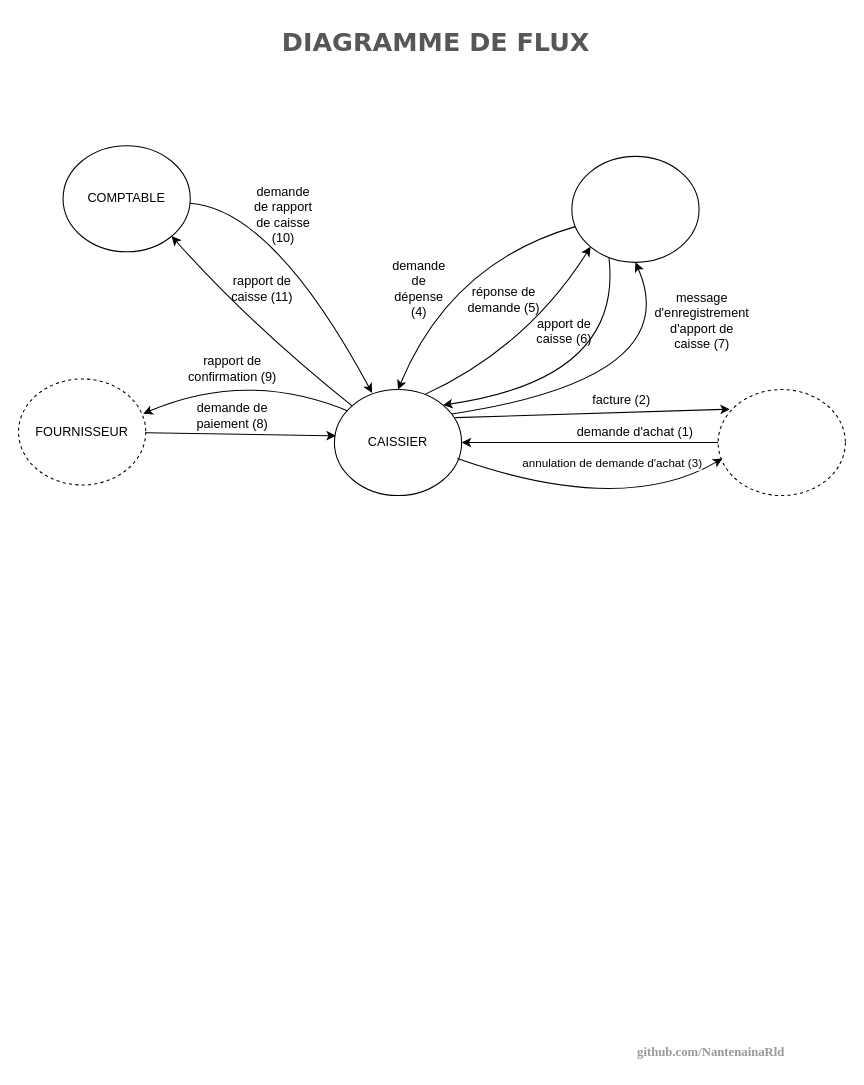
Some shapes in this 864 by 1085 pixel diagram are drawn without their labels. The shapes that lost their labels are listed below. From the top down, each one's box as (x1, y1, x2, y2) in pixels, then its label:
(571, 155, 699, 262): EMPLOYE
(717, 388, 845, 496): CLIENT
